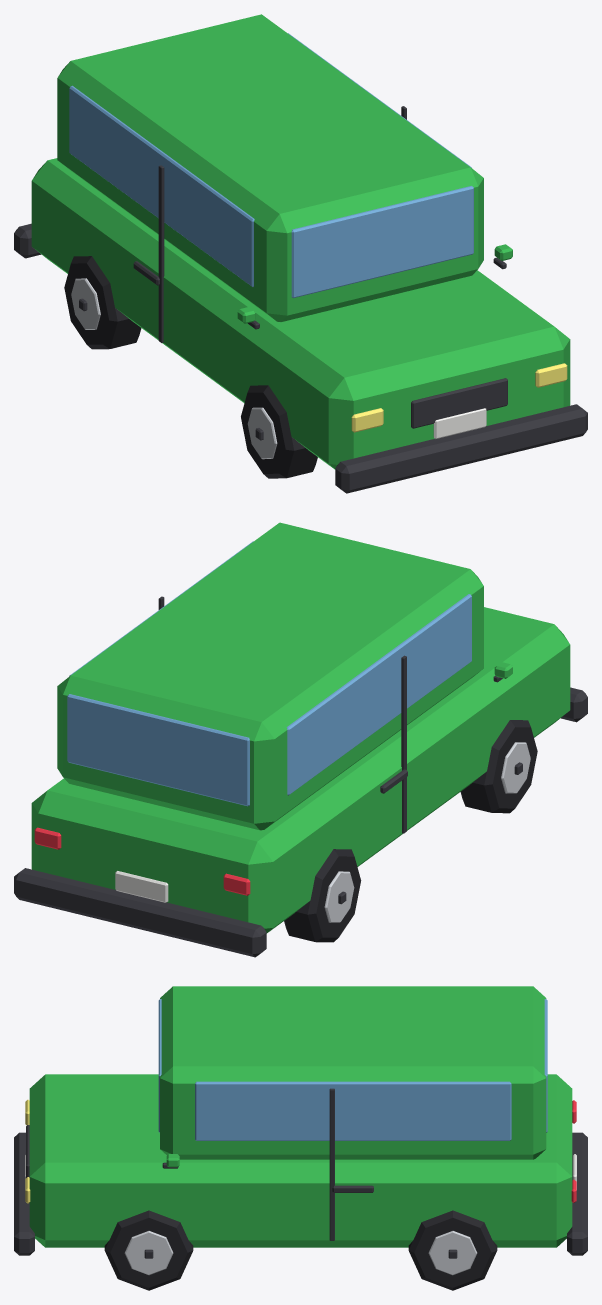
Rendered from GreenMinivan.fbx.
3 views of the same model, one above another, from view 1: azimuth 30°, elevation 25°; view 2: azimuth 150°, elevation 25°; view 3: azimuth 270°, elevation 25° (orthographic). The views are drawn at different scales.
Parts seen in each view (by area): view 1: GreenMinivan, GreenMinivan_WheelBR, GreenMinivan_WheelFR; view 2: GreenMinivan, GreenMinivan_WheelBR, GreenMinivan_WheelFR; view 3: GreenMinivan, GreenMinivan_WheelBL, GreenMinivan_WheelFL.
Part boxes in pixels (x1,y1,x2,y2): GreenMinivan: (14, 14, 587, 493); GreenMinivan_WheelBR: (64, 256, 141, 349); GreenMinivan_WheelFR: (241, 385, 317, 478); GreenMinivan: (14, 522, 587, 957); GreenMinivan_WheelBR: (284, 849, 361, 942); GreenMinivan_WheelFR: (460, 720, 537, 813); GreenMinivan: (14, 986, 587, 1255); GreenMinivan_WheelBL: (408, 1210, 497, 1290); GreenMinivan_WheelFL: (104, 1210, 193, 1290).
Size of the model in its own units: 5.15 by 4.52 by 11.
1 material, 1 textured.
